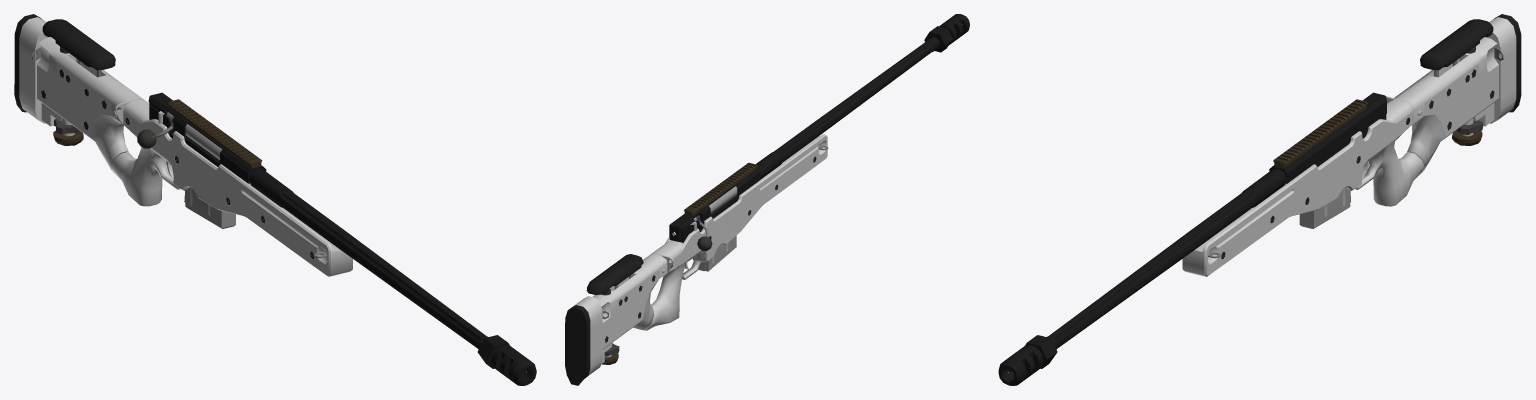
File: DemoFacility_SniperRifle.FBX
The picture shows the model from 3 angles, left to right: view 1: azimuth 30°, elevation 25°; view 2: azimuth 150°, elevation 25°; view 3: azimuth 330°, elevation 25°; orthographic projection. The views are drawn at different scales.
Visible parts, largest first — view 1: DFSR_SniperRifle, DFSR_Bolt, DFSR_Magazine, DFSR_Slide; view 2: DFSR_SniperRifle, DFSR_Bolt, DFSR_Slide, DFSR_Magazine; view 3: DFSR_SniperRifle, DFSR_Magazine, DFSR_Slide.
Part boxes in pixels (box(x1,y1,x2,y2)): DFSR_SniperRifle: box(14, 14, 536, 385); DFSR_Bolt: box(137, 112, 222, 159); DFSR_Magazine: box(185, 187, 235, 228); DFSR_Slide: box(148, 92, 172, 123); DFSR_SniperRifle: box(565, 14, 969, 385); DFSR_Bolt: box(694, 186, 737, 250); DFSR_Slide: box(669, 214, 696, 241); DFSR_Magazine: box(705, 235, 736, 271); DFSR_SniperRifle: box(998, 14, 1521, 385); DFSR_Magazine: box(1299, 187, 1350, 228); DFSR_Slide: box(1363, 92, 1386, 123).
Size of the model in its own units: 8.51 by 18.8 by 142.
